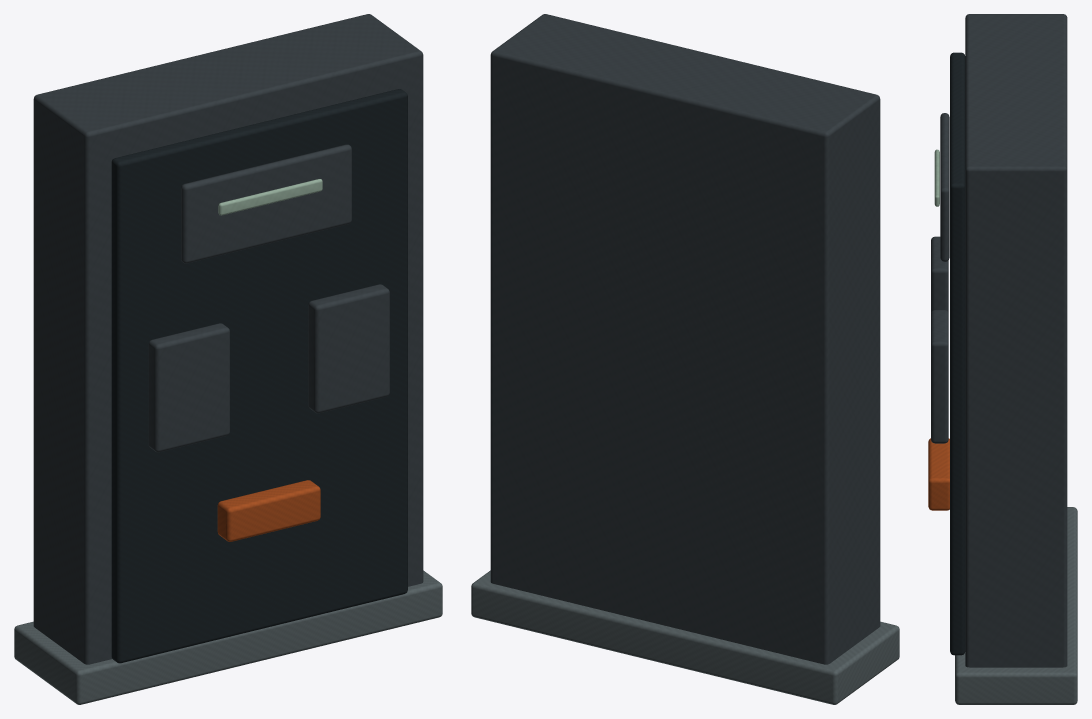
Rendered from WallChargingStation.fbx.
3 views of the same model, side by side, from view 1: azimuth 30°, elevation 25°; view 2: azimuth 150°, elevation 25°; view 3: azimuth 270°, elevation 25° (orthographic). The views are drawn at different scales.
Visible parts, largest first — view 1: WallChargingStation_Mesh; view 2: WallChargingStation_Mesh; view 3: WallChargingStation_Mesh.
Part boxes in pixels (x1,y1,x2,y2): WallChargingStation_Mesh: (14, 14, 442, 704); WallChargingStation_Mesh: (471, 14, 899, 704); WallChargingStation_Mesh: (928, 14, 1077, 704).
Size of the model in its own units: 78 by 115 by 29.25.
5 materials, 5 textured.
